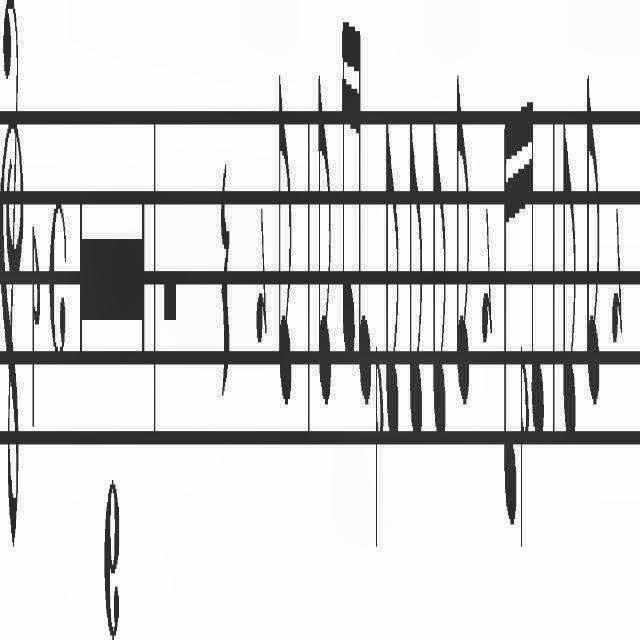Bass-clef: (0, 0, 24, 591)
Bemol: (29, 214, 43, 446), (372, 340, 384, 570), (518, 347, 530, 573)
Eighth-note: (274, 65, 296, 427), (558, 68, 578, 464), (404, 97, 424, 473), (586, 63, 604, 437), (454, 64, 472, 422), (384, 99, 400, 457), (432, 106, 448, 464), (316, 74, 332, 418)
Eighth-rest: (254, 174, 270, 378), (610, 184, 624, 384), (482, 179, 494, 373)
Quarter-rest: (218, 84, 230, 424)
Sixteenth-note: (499, 84, 517, 548), (530, 61, 546, 473), (356, 14, 372, 418), (340, 0, 356, 378)
